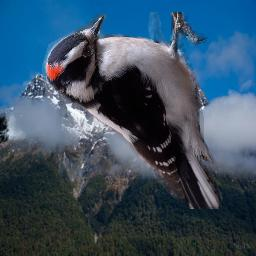Woodpecker: (42, 12, 222, 209)
